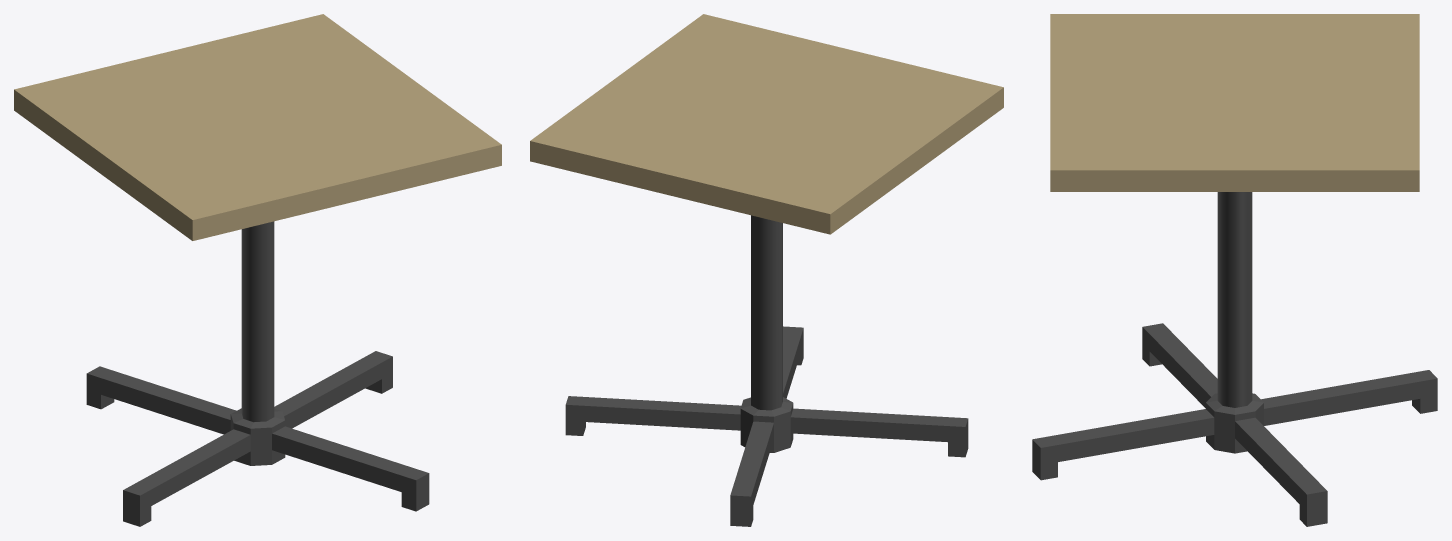
The model's file is SM_Dinetable.fbx.
The picture shows the model from 3 angles, left to right: view 1: azimuth 30°, elevation 25°; view 2: azimuth 150°, elevation 25°; view 3: azimuth 270°, elevation 25°; orthographic projection. The views are drawn at different scales.
Visible parts, largest first — view 1: SM_Dinetable; view 2: SM_Dinetable; view 3: SM_Dinetable.
Part boxes in pixels (box(x1,y1,x2,y2)): SM_Dinetable: box(14, 14, 501, 526); SM_Dinetable: box(530, 14, 1003, 526); SM_Dinetable: box(1032, 14, 1437, 526).
Bounding box in the file's own units: 87.77 × 83.4 × 87.77.
